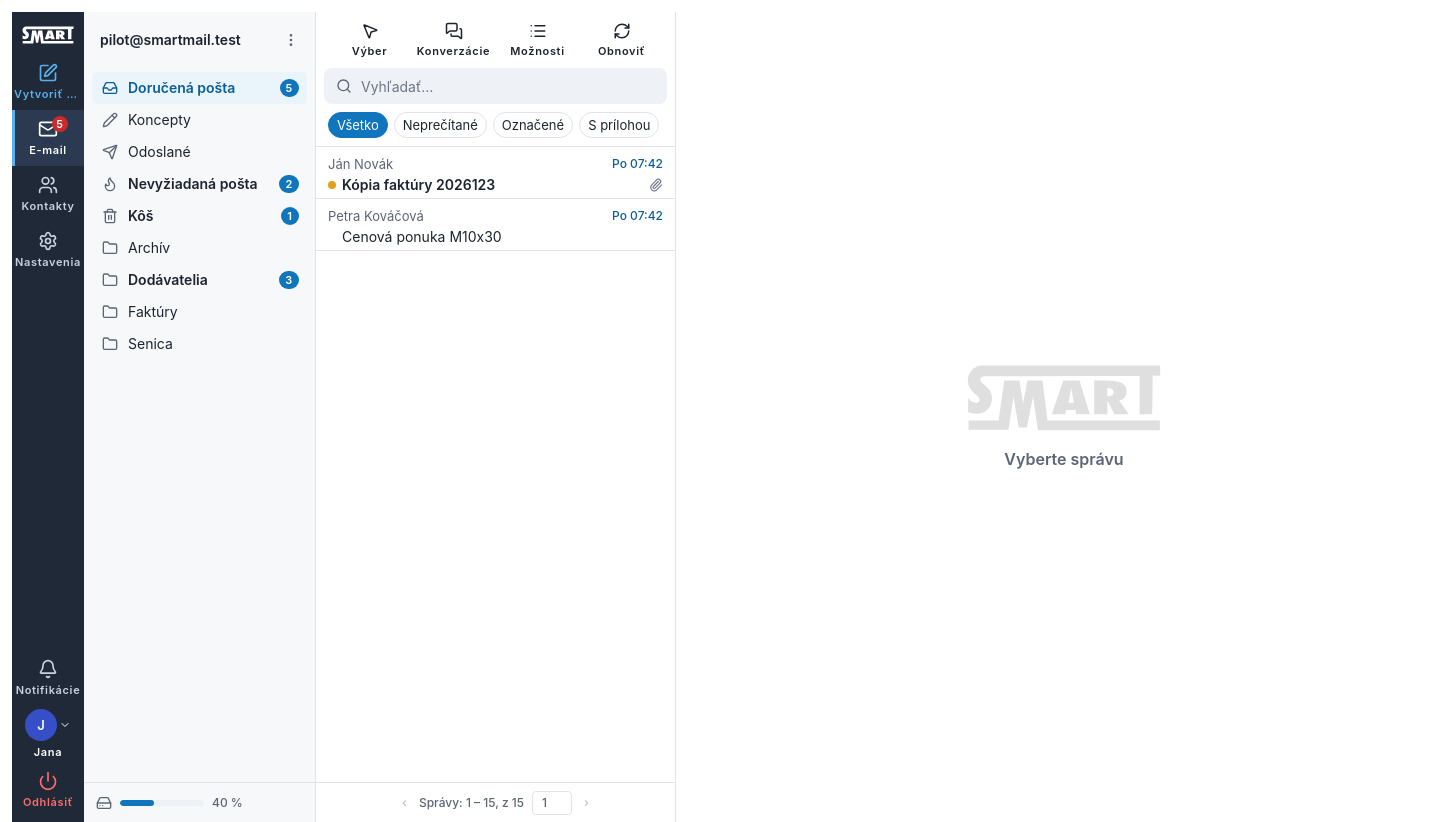
Test: W2 shell and folder column (1c) › G3 with one mailbox there is no "Všetky schránky"
The image size is (1452, 822).
Click the button named "Menu schránky".
click(291, 40)  # box top-left (275, 24), bottom-right (307, 56)
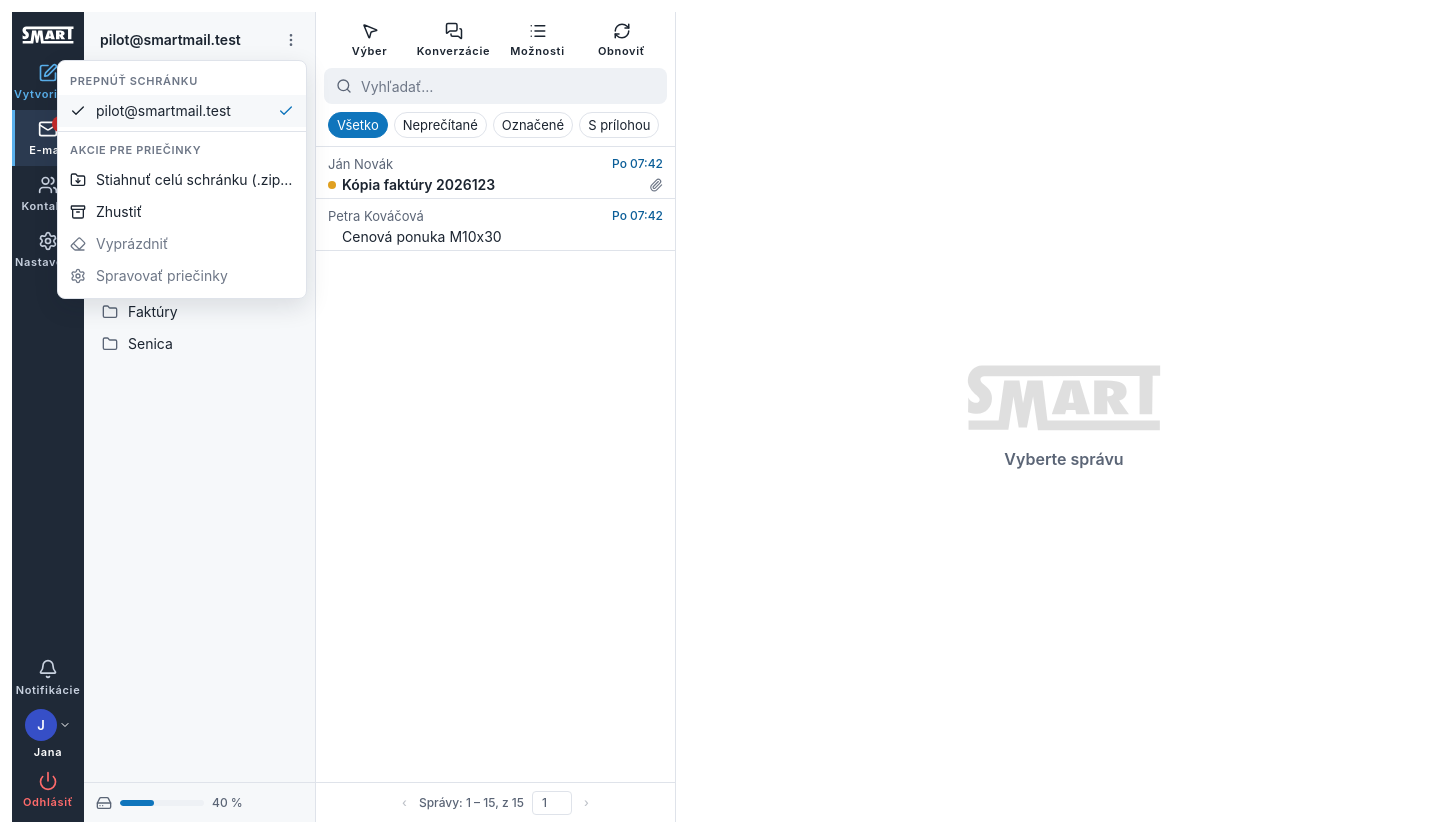
Now the menu item "Zhustiť" is shown, box top-left (58, 196), bottom-right (306, 228)
